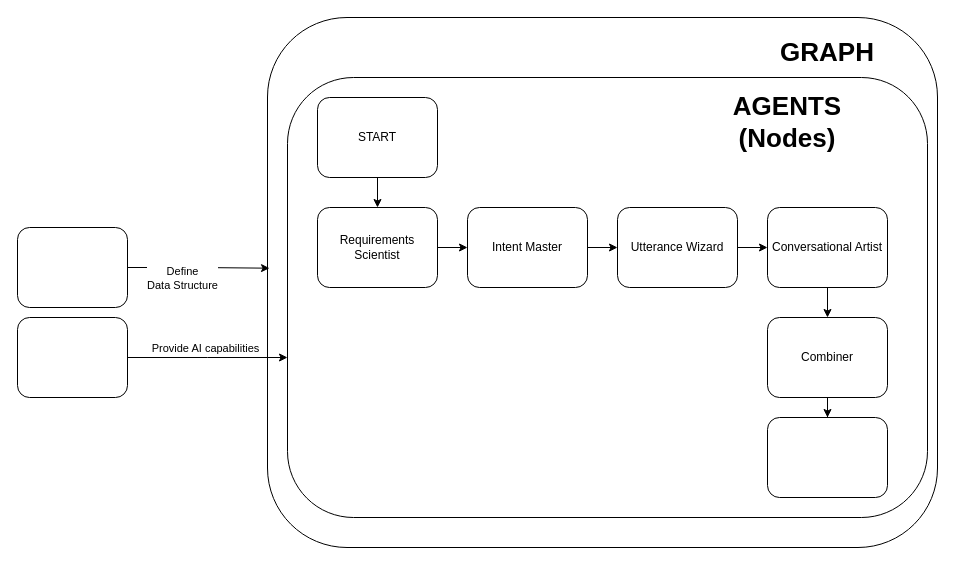
Some shapes in this 955 by 565 pixel diagram are drawn without their labels. The centre of each missing label's shape, as x and y in pixels:
"END" belongs at [827,457].
"LLM" belongs at [72,357].
"STATE OBJECT" belongs at [72,267].
